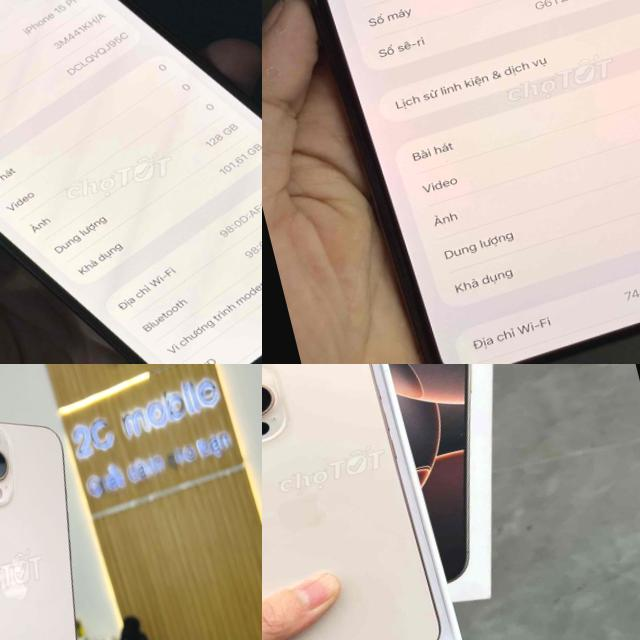gen_11: (264, 0, 640, 364)
gen_15: (0, 0, 262, 364)
gen_16: (262, 364, 458, 640), (0, 392, 136, 640)
